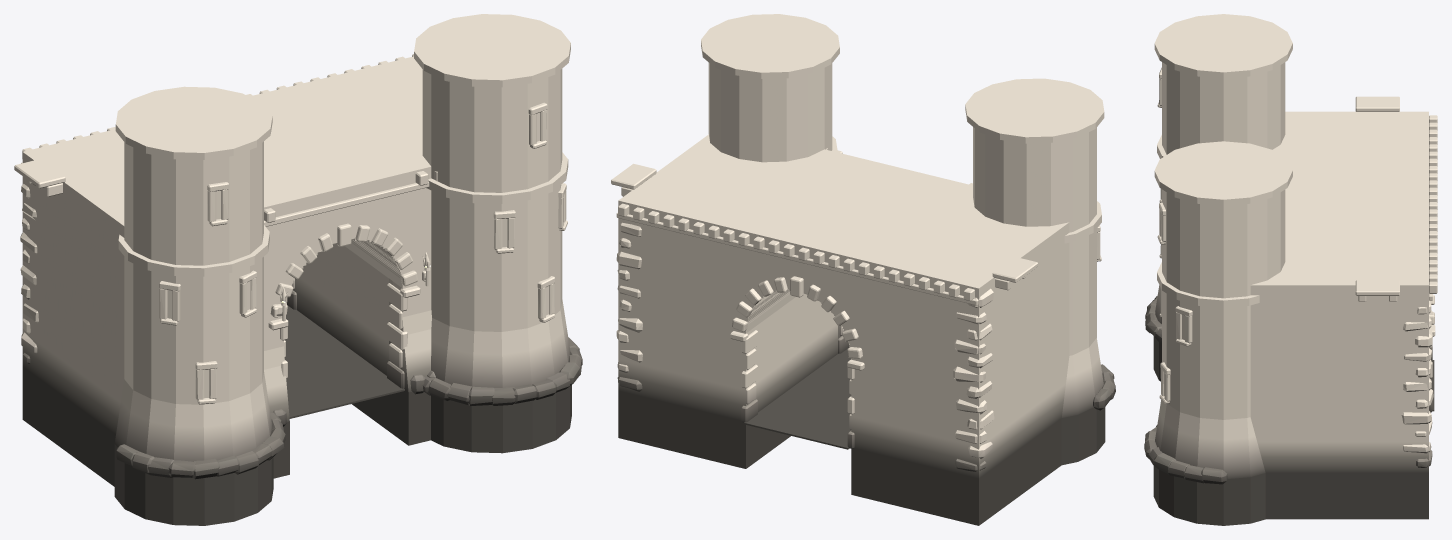
Rendered from SM_VK_Gatehouse_Block.fbx.
3 views of the same model, side by side, from view 1: azimuth 30°, elevation 25°; view 2: azimuth 150°, elevation 25°; view 3: azimuth 270°, elevation 25° (orthographic). The views are drawn at different scales.
Parts seen in each view (by area): view 1: SM_VK_Gatehouse_Block.001; view 2: SM_VK_Gatehouse_Block.001; view 3: SM_VK_Gatehouse_Block.001.
Part boxes in pixels (x1,y1,x2,y2): SM_VK_Gatehouse_Block.001: (14, 14, 582, 525); SM_VK_Gatehouse_Block.001: (611, 14, 1115, 525); SM_VK_Gatehouse_Block.001: (1144, 14, 1437, 525).
Bounding box in the file's own units: 13.5 × 10.5 × 8.57.
